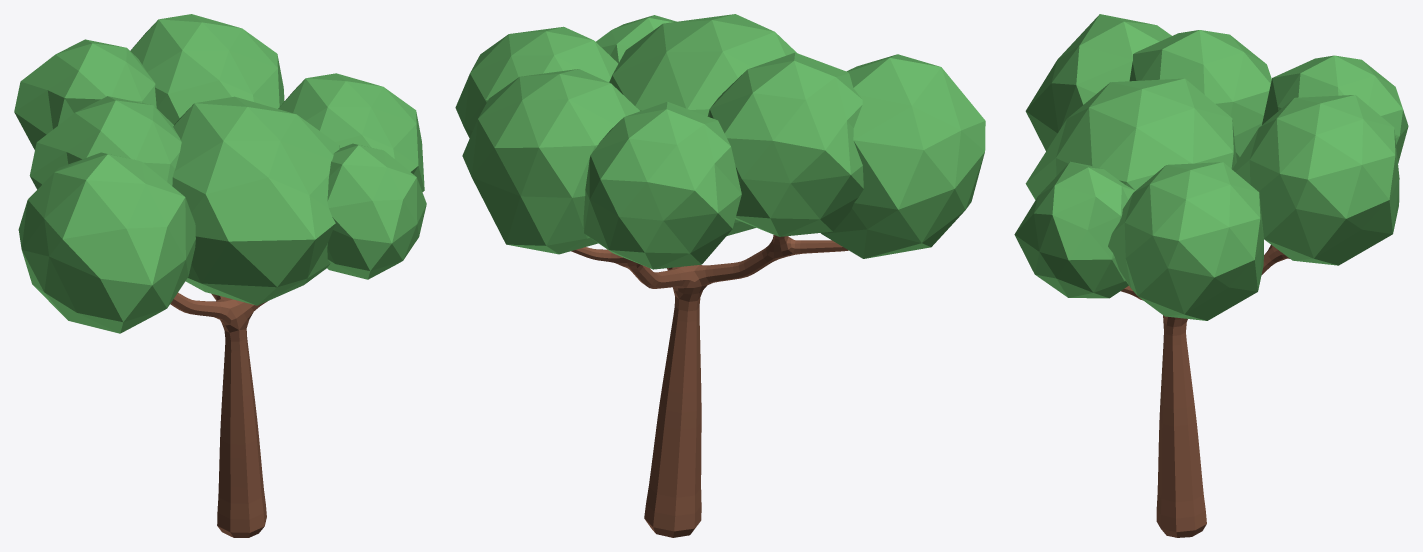
The picture shows the model from 3 angles, left to right: view 1: azimuth 30°, elevation 25°; view 2: azimuth 150°, elevation 25°; view 3: azimuth 270°, elevation 25°; orthographic projection. The views are drawn at different scales.
Parts seen in each view (by area): view 1: Tree; view 2: Tree; view 3: Tree.
Boxes of the visible parts, x1,y1,x2,y2 form: Tree: (14,14,426,537); Tree: (455,14,985,537); Tree: (1014,14,1408,537).
Bounding box in the file's own units: 10.7 × 11.28 × 8.99.
